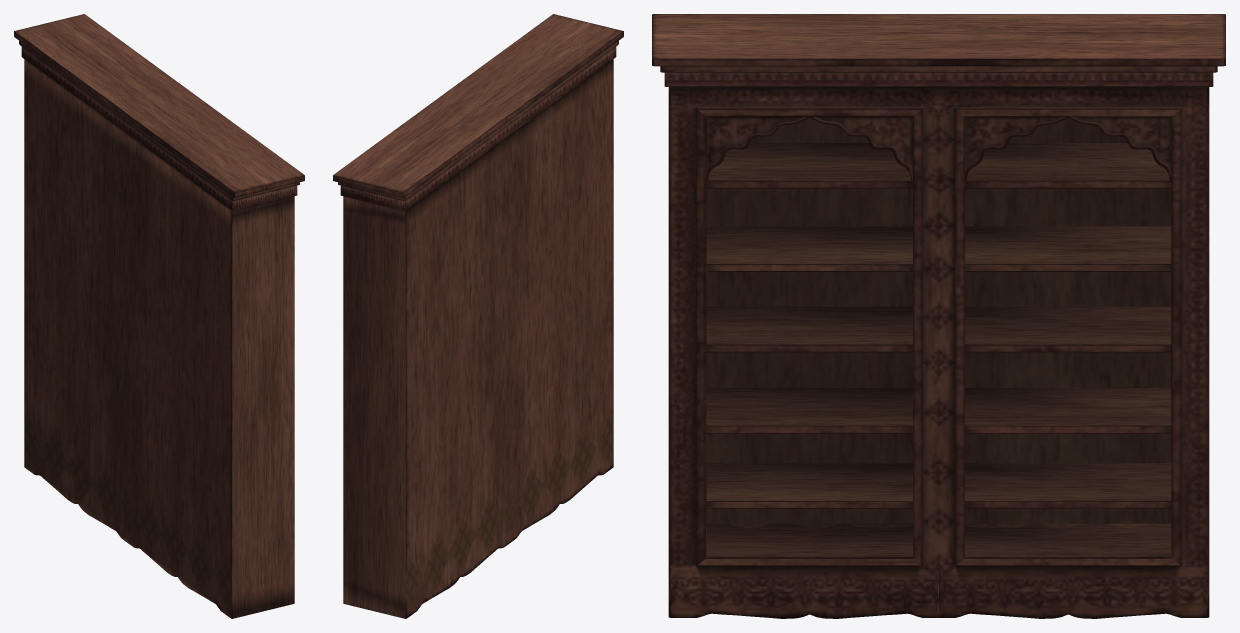
File: bookshelf.glb
3 views of the same model, side by side, from view 1: azimuth 30°, elevation 25°; view 2: azimuth 150°, elevation 25°; view 3: azimuth 270°, elevation 25° (orthographic). The views are drawn at different scales.
Parts seen in each view (by area): view 1: Book case 1.001; view 2: Book case 1.001; view 3: Book case 1.001.
Part boxes in pixels (x1=…): Book case 1.001: x1=14, y1=14, x2=304, y2=618; Book case 1.001: x1=333, y1=14, x2=623, y2=618; Book case 1.001: x1=652, y1=14, x2=1225, y2=618.
Bounding box in the file's own units: 0.3202 × 1.87 × 1.73.
2 materials, 2 textured.
